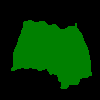mutande: (10, 19, 92, 89)
